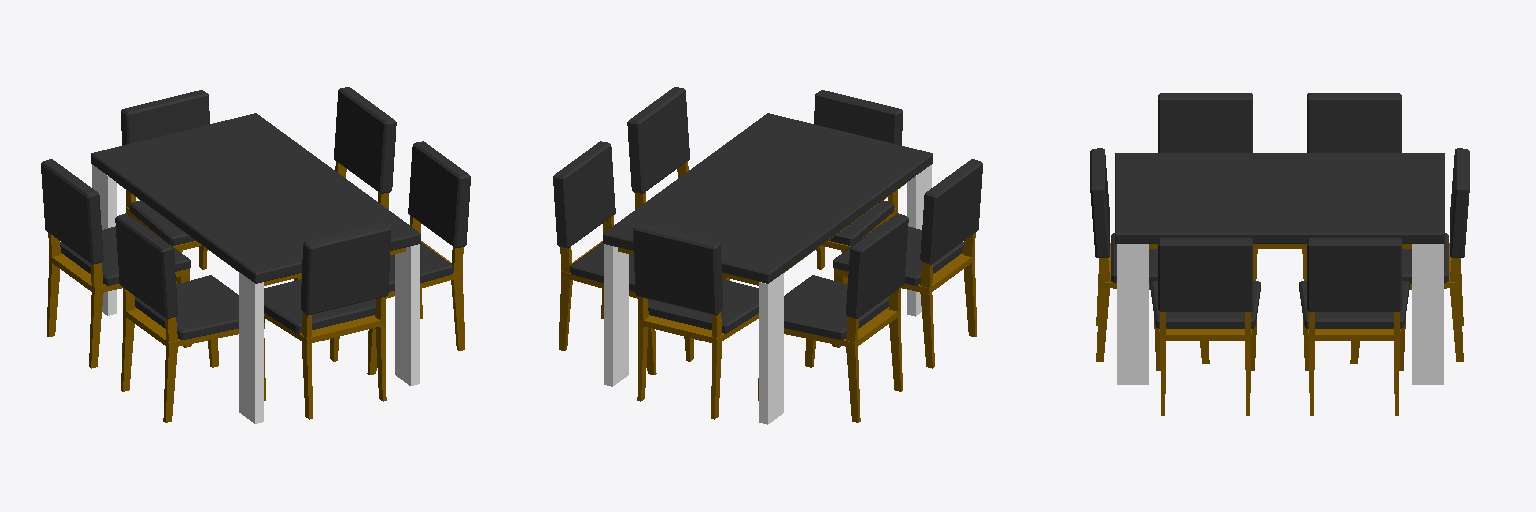
File: dining_table.obj
3 views of the same model, side by side, from view 1: azimuth 30°, elevation 25°; view 2: azimuth 150°, elevation 25°; view 3: azimuth 270°, elevation 25° (orthographic).
Parts seen in each view (by area): view 1: Body_6, Foam_5, Foam, Foam_1, Foam_2, Foam_3, Foam.1_3, Leg, Leg.1, Foam_4, Foam.1_5, Foam.1_2 (+13 smaller); view 2: Body_6, Foam_4, Foam_1, Foam, Foam_3, Foam_2, Foam.1_2, Leg.2, Leg.3, Foam_5, Foam.1_4, Foam.1_3 (+13 smaller); view 3: Body_6, Foam, Foam_1, Foam_2, Foam_3, Leg.1, Leg.3, Foam.1, Foam.1_1, Foam_4, Foam_5, Body (+5 smaller).
Boxes of the visible parts, <box> form: Body_6: <box>91,113,420,283</box>; Foam_5: <box>301,223,390,315</box>; Foam: <box>408,141,470,247</box>; Foam_1: <box>334,87,396,193</box>; Foam_2: <box>41,159,103,264</box>; Foam_3: <box>115,213,177,318</box>; Foam.1_3: <box>134,275,264,339</box>; Leg: <box>239,272,263,423</box>; Leg.1: <box>395,244,419,385</box>; Foam_4: <box>121,90,209,145</box>; Foam.1_5: <box>264,279,375,333</box>; Foam.1_2: <box>60,222,190,285</box>; Body_6: <box>603,113,932,283</box>; Foam_4: <box>633,223,722,315</box>; Foam_1: <box>553,141,615,247</box>; Foam: <box>627,87,689,193</box>; Foam_3: <box>920,159,982,264</box>; Foam_2: <box>846,213,908,318</box>; Foam.1_2: <box>784,275,889,339</box>; Leg.2: <box>759,273,783,424</box>; Leg.3: <box>604,244,628,386</box>; Foam_5: <box>814,90,902,145</box>; Foam.1_4: <box>648,279,758,333</box>; Foam.1_3: <box>833,222,963,285</box>; Body_6: <box>1115,153,1444,243</box>; Foam: <box>1158,238,1252,311</box>; Foam_1: <box>1307,238,1401,311</box>; Foam_2: <box>1307,93,1401,152</box>; Foam_3: <box>1158,93,1252,152</box>; Leg.1: <box>1117,244,1148,384</box>; Leg.3: <box>1412,244,1443,384</box>; Foam.1: <box>1150,281,1260,328</box>; Foam.1_1: <box>1299,281,1409,328</box>; Foam_4: <box>1450,148,1469,257</box>; Foam_5: <box>1090,148,1109,257</box>; Body: <box>1158,329,1252,340</box>.
Bounding box in the file's own units: 169 × 91.96 × 179.